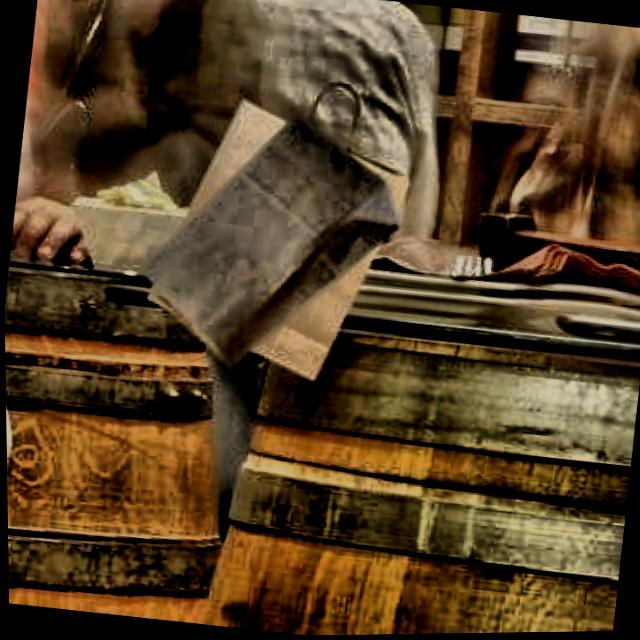Paper-bag: (138, 87, 423, 401), (110, 96, 415, 382)
